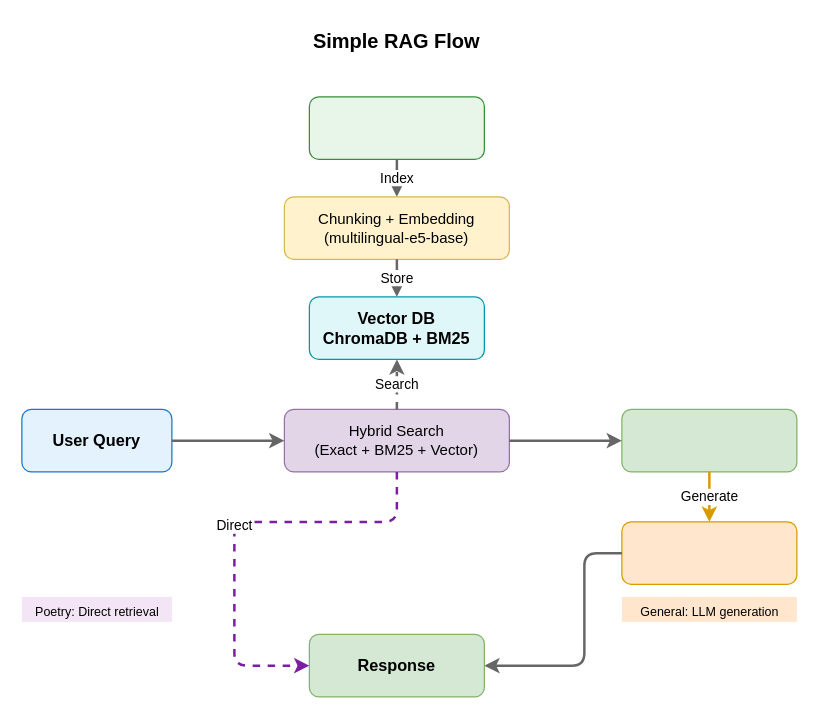
Some shapes in this 819 by 719 pixel diagram are drawn without their labels. The box of each missing label's shape, as (x1, y1, x2, y2) in pixels:
Knowledge Base (687 verses): (308, 96, 484, 159)
LLM Generation (Llama 3.3 70B): (621, 521, 797, 584)
Retrieved Context: (621, 408, 797, 472)
